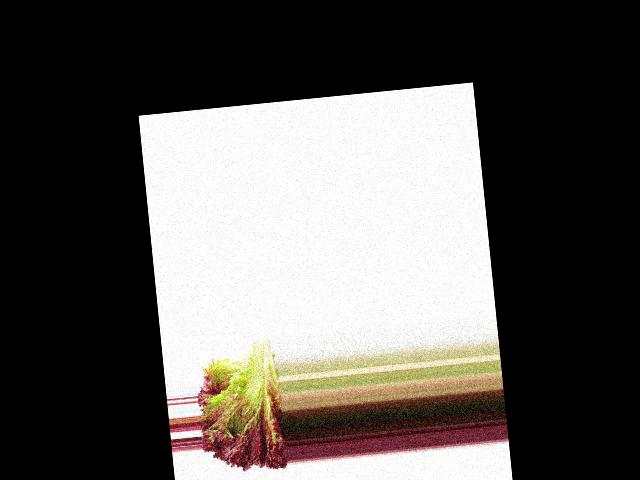lettuce: (193, 339, 289, 458)
